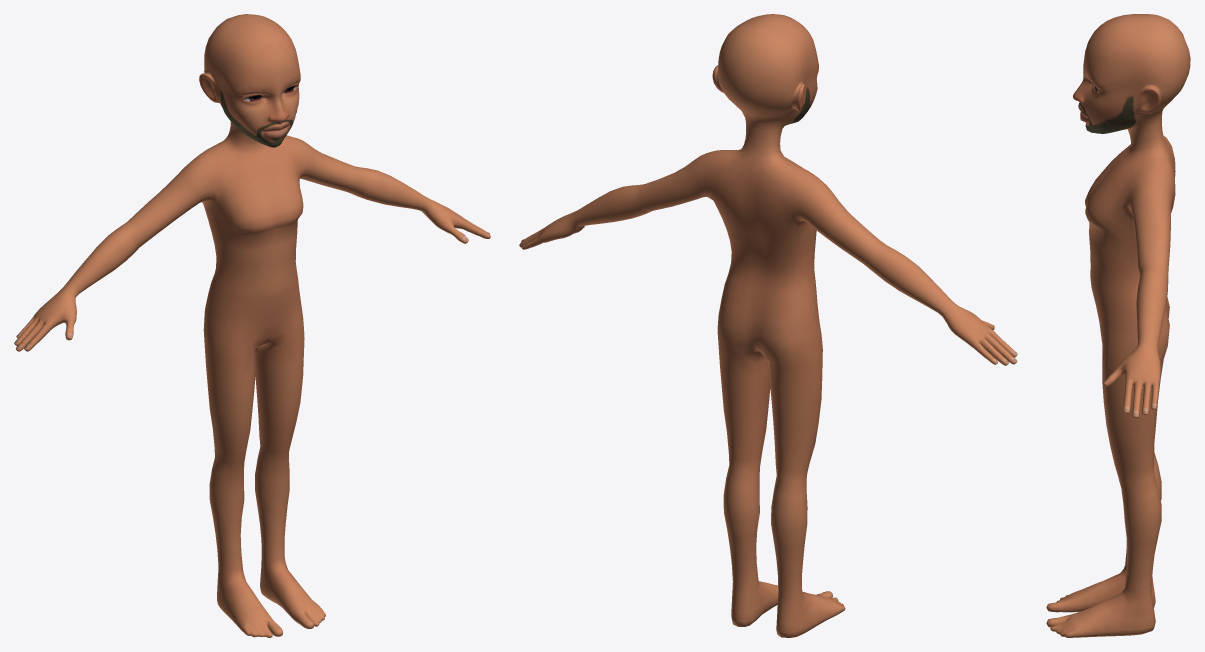
File: frame_0038.glb
The picture shows the model from 3 angles, left to right: view 1: azimuth 30°, elevation 25°; view 2: azimuth 150°, elevation 25°; view 3: azimuth 270°, elevation 25°; orthographic projection. The views are drawn at different scales.
Parts seen in each view (by area): view 1: frame_0038_head_geo; view 2: frame_0038_head_geo; view 3: frame_0038_head_geo.
Part boxes in pixels (box(x1,y1,x2,y2)): frame_0038_head_geo: box(14, 14, 490, 637); frame_0038_head_geo: box(519, 14, 1017, 637); frame_0038_head_geo: box(1046, 14, 1190, 637).
Size of the model in its own units: 1.28 by 1.5 by 0.3253.
Materials: 3 (3 with a texture image).
